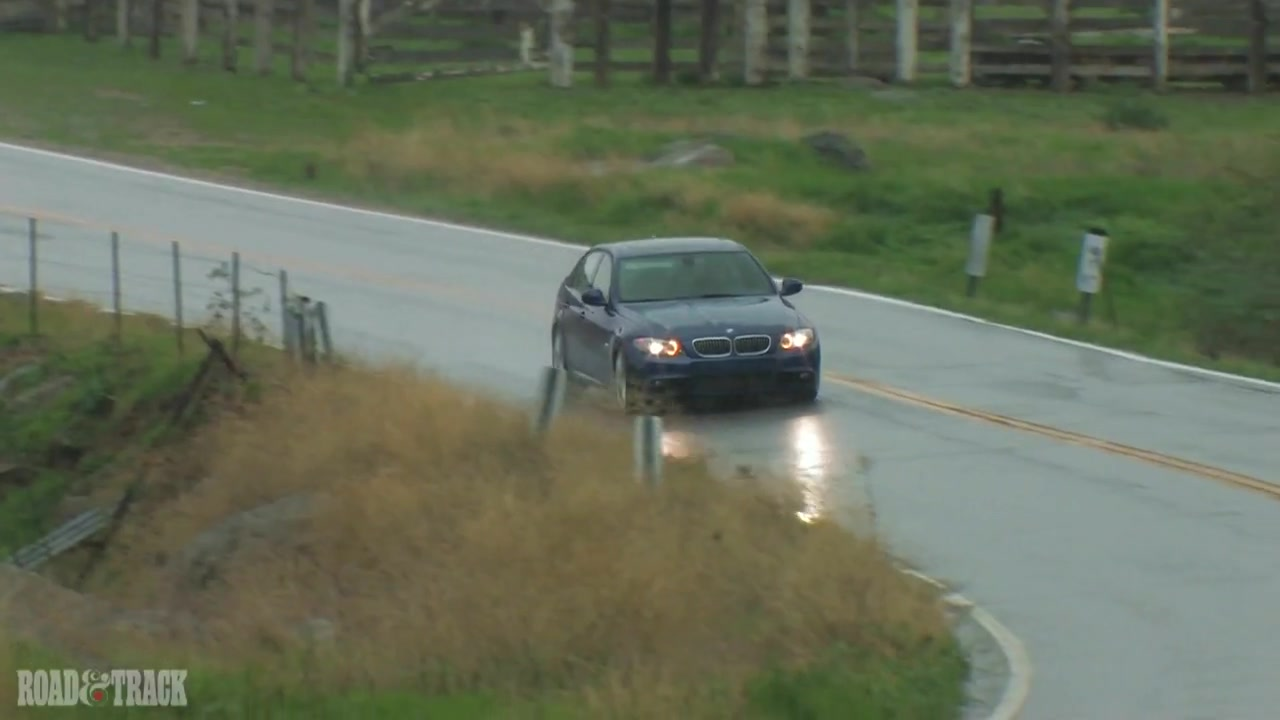car: (550, 241, 827, 416)
